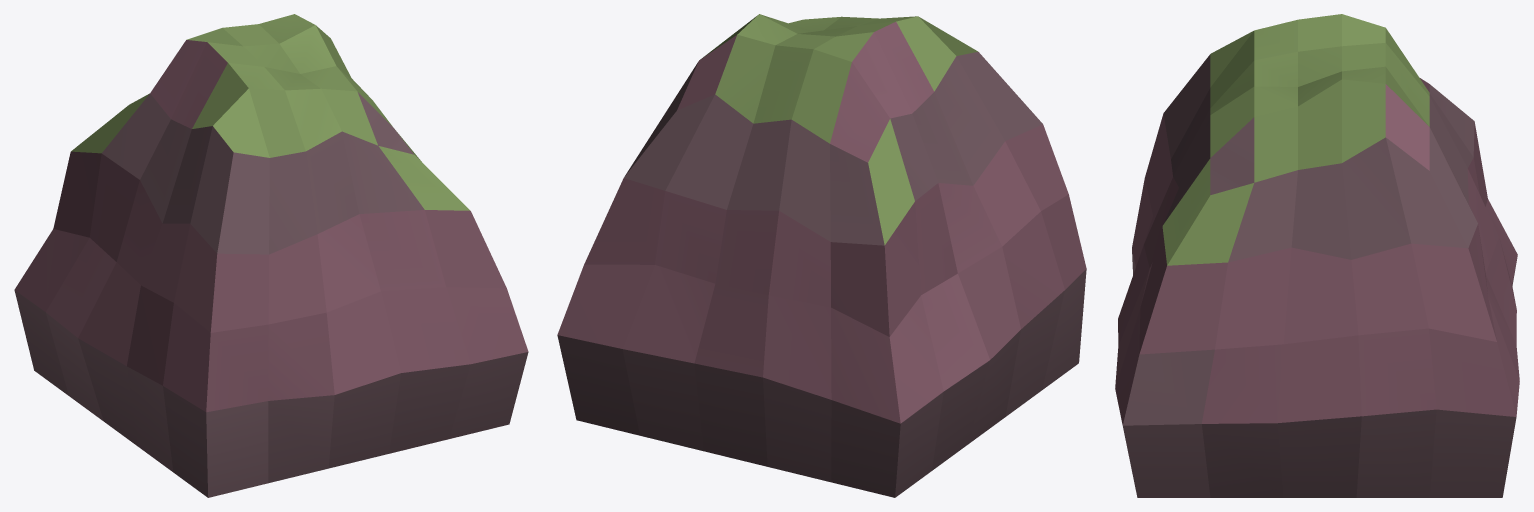
File: roca_suelta_2.glb
The picture shows the model from 3 angles, left to right: view 1: azimuth 30°, elevation 25°; view 2: azimuth 150°, elevation 25°; view 3: azimuth 270°, elevation 25°; orthographic projection. The views are drawn at different scales.
Parts seen in each view (by area): view 1: propforge-cuartos-roca_suelta; view 2: propforge-cuartos-roca_suelta; view 3: propforge-cuartos-roca_suelta.
Part boxes in pixels (<box>): propforge-cuartos-roca_suelta: <box>14,14,528,497</box>; propforge-cuartos-roca_suelta: <box>557,14,1086,497</box>; propforge-cuartos-roca_suelta: <box>1115,14,1519,497</box>.
Size of the model in its own units: 0.9265 by 0.916 by 0.8864.
